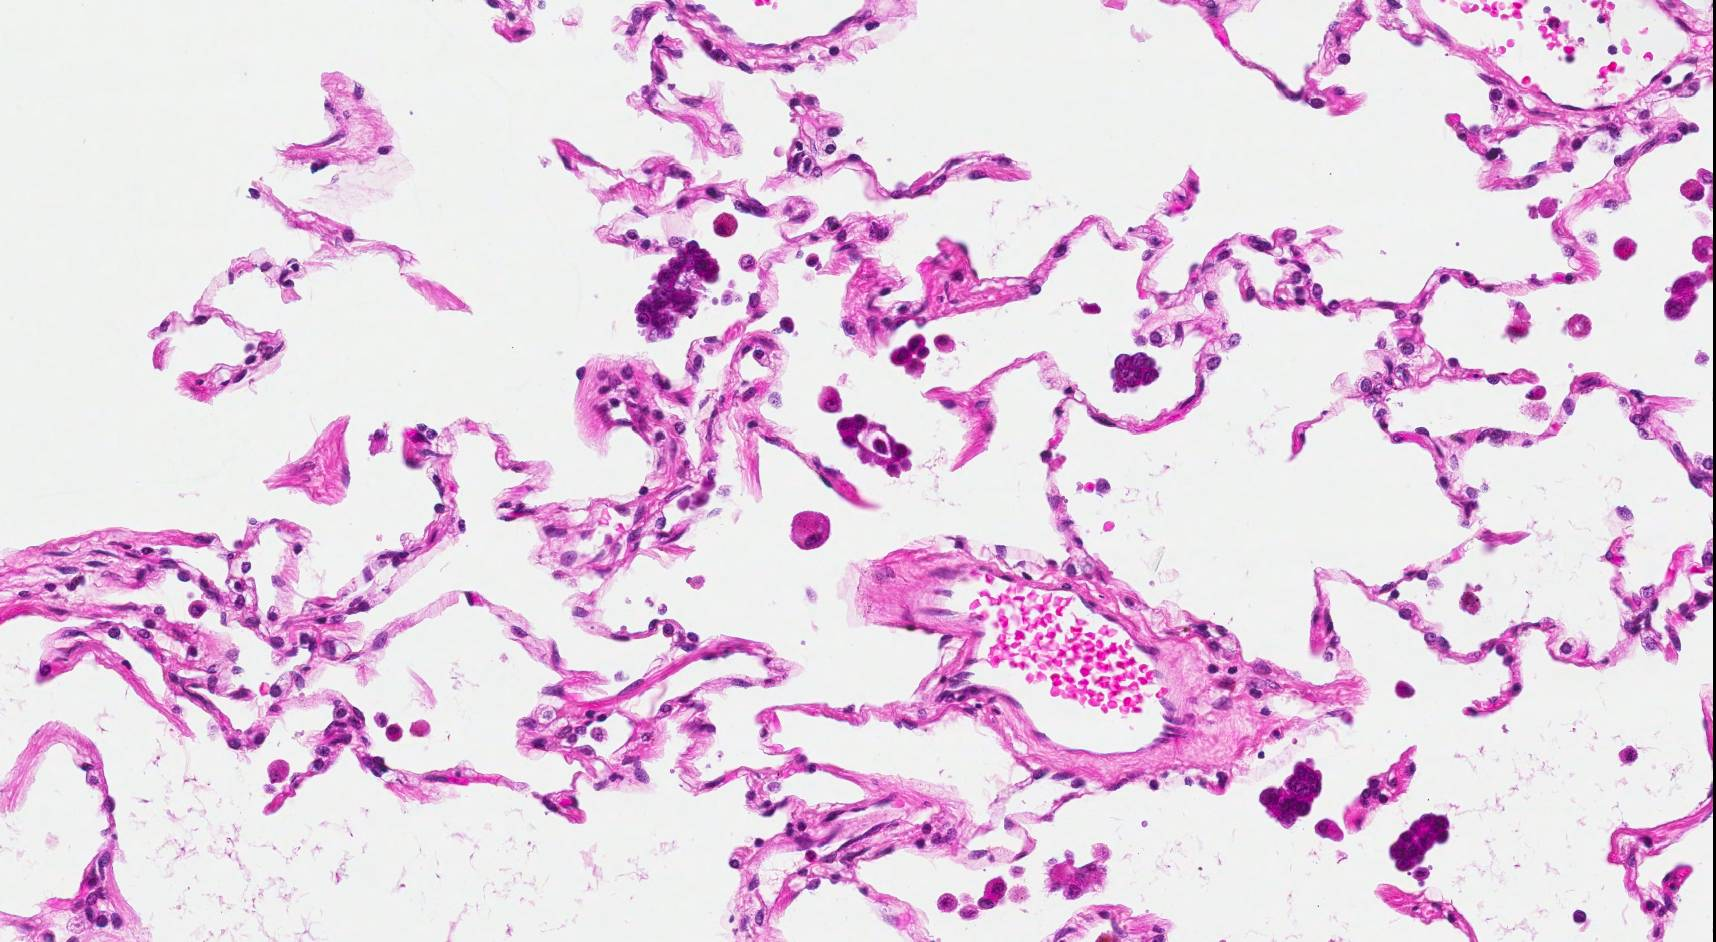stas: (632, 238, 724, 341), (834, 412, 919, 480), (1253, 758, 1331, 832), (1389, 811, 1455, 874), (1110, 349, 1164, 393)
